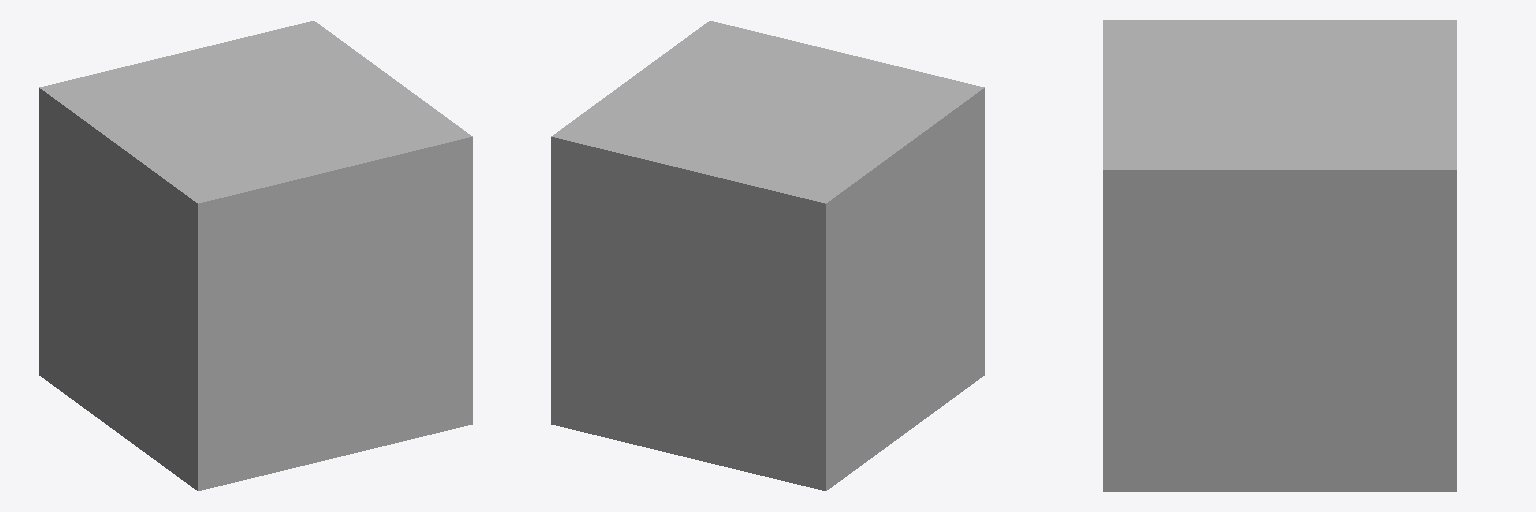
The robot description file, URDF, robot "roborts_robot_xacro":
<?xml version="1.0" ?>
<!-- =================================================================================== -->
<!-- |    This document was autogenerated by xacro from [local-path]/catkin_ws/src/RoboRTS_Gazebo/robots/infantry_blue.xacro | -->
<!-- |    EDITING THIS FILE BY HAND IS NOT RECOMMENDED                                 | -->
<!-- =================================================================================== -->
<robot name="roborts_robot_xacro" xmlns:xacro="http://www.ros.org/wiki/xacro">
  <link name="base_link">
    <inertial>
      <origin rpy="0 0 0" xyz="-0.025782 0 0.025311"/>
      <mass value="25.625"/>
      <inertia ixx="0.10311" ixy="-9.0391E-05" ixz="0.0071078" iyy="0.24575" iyz="2.1083E-05" izz="0.32438"/>
    </inertial>
    <visual>
      <origin rpy="0 0 0" xyz="0 0 0"/>
      <geometry>
        <mesh filename="package://roborts_gazebo/meshes/base_link.STL"/>
      </geometry>
      <material name="">
        <color rgba="0 0 0 1"/>
      </material>
    </visual>
    <collision>
      <origin rpy="0 0 0" xyz="0 0 0"/>
      <geometry>
        <box size="0.55 0.4 0.1"/>
      </geometry>
    </collision>
  </link>
  <link name="br_wheel_link">
    <inertial>
      <origin rpy="0 0 0" xyz="0 0.014616 0"/>
      <mass value="0.86078"/>
      <inertia ixx="0.0015361" ixy="1.6456E-06" ixz="-2.0131E-06" iyy="0.002844" iyz="-9.5351E-07" izz="0.0015337"/>
    </inertial>
    <visual>
      <origin rpy="0 0 0" xyz="0 0 0"/>
      <geometry>
        <mesh filename="package://roborts_gazebo/meshes/br_wheel_link.STL"/>
      </geometry>
      <material name="">
        <color rgba="1 0 0 1"/>
      </material>
    </visual>
    <collision>
      <origin rpy="1.5708 0 0" xyz="0 0 0"/>
      <geometry>
        <cylinder length="0.02" radius="0.078"/>
      </geometry>
    </collision>
  </link>
  <joint name="base_link_to_br_wheel_joint" type="continuous">
    <origin rpy="0 0 -3.1416" xyz="-0.21 -0.25 0"/>
    <parent link="base_link"/>
    <child link="br_wheel_link"/>
    <axis xyz="0 1 0"/>
  </joint>
  <link name="bl_wheel_link">
    <inertial>
      <origin rpy="0 0 0" xyz="0 -0.014551 0"/>
      <mass value="0.86078"/>
      <inertia ixx="0.0015355" ixy="4.8831E-07" ixz="1.8067E-06" iyy="0.002844" iyz="9.4618E-08" izz="0.0015338"/>
    </inertial>
    <visual>
      <origin rpy="0 0 0" xyz="0 0 0"/>
      <geometry>
        <mesh filename="package://roborts_gazebo/meshes/bl_wheel_link.STL"/>
      </geometry>
      <material name="">
        <color rgba="0.79216 0.81961 0.93333 1"/>
      </material>
    </visual>
    <collision>
      <origin rpy="-1.5708 0 0" xyz="0 0 0"/>
      <geometry>
        <cylinder length="0.02" radius="0.078"/>
      </geometry>
    </collision>
  </link>
  <joint name="base_link_to_bl_wheel_joint" type="continuous">
    <origin rpy="0 0 -3.1416" xyz="-0.21 0.25 0"/>
    <parent link="base_link"/>
    <child link="bl_wheel_link"/>
    <axis xyz="0 -1 0"/>
  </joint>
  <link name="fl_wheel_link">
    <inertial>
      <origin rpy="0 0 0" xyz="0 -0.014549 0"/>
      <mass value="0.86078"/>
      <inertia ixx="0.0015361" ixy="1.6481E-06" ixz="-2.0131E-06" iyy="0.002844" iyz="-9.4912E-07" izz="0.0015338"/>
    </inertial>
    <visual>
      <origin rpy="0 0 0" xyz="0 0 0"/>
      <geometry>
        <mesh filename="package://roborts_gazebo/meshes/fl_wheel_link.STL"/>
      </geometry>
      <material name="">
        <color rgba="0.79216 0.81961 0.93333 1"/>
      </material>
    </visual>
    <collision>
      <origin rpy="-1.5708 0 0" xyz="0 0 0"/>
      <geometry>
        <cylinder length="0.02" radius="0.078"/>
      </geometry>
    </collision>
  </link>
  <joint name="base_link_to_fl_wheel_joint" type="continuous">
    <origin rpy="0 0 3.1416" xyz="0.21 0.25 0"/>
    <parent link="base_link"/>
    <child link="fl_wheel_link"/>
    <axis xyz="0 1 0"/>
  </joint>
  <link name="fr_wheel_link">
    <inertial>
      <origin rpy="0 0 0" xyz="0.00010086 0.014592 0"/>
      <mass value="0.86078"/>
      <inertia ixx="0.0015355" ixy="5.3543E-07" ixz="1.8067E-06" iyy="0.002844" iyz="1.1717E-07" izz="0.0015337"/>
    </inertial>
    <visual>
      <origin rpy="0 0 0" xyz="0 0 0"/>
      <geometry>
        <mesh filename="package://roborts_gazebo/meshes/fr_wheel_link.STL"/>
      </geometry>
      <material name="">
        <color rgba="0.75294 0.75294 0.75294 1"/>
      </material>
    </visual>
    <collision>
      <origin rpy="1.5708 0 0" xyz="0 0 0"/>
      <geometry>
        <cylinder length="0.02" radius="0.078"/>
      </geometry>
    </collision>
  </link>
  <joint name="base_link_to_fr_wheel_joint" type="continuous">
    <origin rpy="0 0 -3.1416" xyz="0.21 -0.25 0"/>
    <parent link="base_link"/>
    <child link="fr_wheel_link"/>
    <axis xyz="0 -1 0"/>
  </joint>
  <link name="yaw_link">
    <inertial>
      <origin rpy="0 0 0" xyz="0 0.024936 0"/>
      <mass value="0.98307"/>
      <inertia ixx="0.0072228" ixy="1.8624E-07" ixz="5.1373E-07" iyy="0.0035103" iyz="-0.0016193" izz="0.00443"/>
    </inertial>
    <visual>
      <origin rpy="0 0 0" xyz="0 0 0"/>
      <geometry>
        <mesh filename="package://roborts_gazebo/meshes/yaw_link.STL"/>
      </geometry>
      <material name="">
        <color rgba="0.89412 0.91373 0.92941 1"/>
      </material>
    </visual>
    <collision>
      <origin rpy="0 0 0" xyz="0 0 1"/>
      <geometry>
        <box size="0.01 0.01 0.01"/>
      </geometry>
    </collision>
  </link>
  <joint name="base_link_to_yaw_joint" type="revolute">
    <origin rpy="0 0 0" xyz="-0.017561 0 0.1342"/>
    <parent link="base_link"/>
    <child link="yaw_link"/>
    <axis xyz="0 0 1"/>
    <limit effort="1000" lower="-1.57" upper="1.57" velocity="100"/>
  </joint>
  <link name="pitch_link">
    <inertial>
      <origin rpy="0 0 0" xyz="-0.0024244 0.00051587 -0.011372"/>
      <mass value="0.68228"/>
      <inertia ixx="0.0019856" ixy="5.1373E-05" ixz="0.00087772" iyy="0.0042744" iyz="-2.4468E-05" izz="0.0037072"/>
    </inertial>
    <visual>
      <origin rpy="0 0 0" xyz="0 0 0"/>
      <geometry>
        <mesh filename="package://roborts_gazebo/meshes/pitch_link.STL"/>
      </geometry>
      <material name="">
        <color rgba="1 1 1 1"/>
      </material>
    </visual>
    <collision>
      <origin rpy="0 0 0" xyz="0 0 0"/>
      <geometry>
        <box size="0.01 0.01 0.01"/>
      </geometry>
    </collision>
  </link>
  <joint name="yaw_to_pitch_joint" type="revolute">
    <origin rpy="0 0 0" xyz="0 0 0.125"/>
    <parent link="yaw_link"/>
    <child link="pitch_link"/>
    <axis xyz="0 1 0"/>
    <limit effort="1000" lower="-0.35" upper="0.35" velocity="100"/>
  </joint>
  <!--
  <link
    name="camera_link">
    <inertial>
      <origin
        xyz="0.0060861 0 0"
        rpy="0 0 0" />
      <mass
        value="0.01627" />
      <inertia
        ixx="3.55E-06"
        ixy="2.3732E-22"
        ixz="1.3726E-09"
        iyy="2.0801E-06"
        iyz="6.7678E-23"
        izz="2.0554E-06" />
    </inertial>
    <visual>
      <origin
        xyz="0 0 0"
        rpy="0 0 0" />
      <geometry>
        <mesh
          filename="package://roborts_gazebo/meshes/camera_link.STL" />
      </geometry>
      <material
        name="">
        <color
          rgba="0.75294 0.75294 0.75294 1" />
      </material>
    </visual> -->
  <!-- <collision>
      <origin
        xyz="0 0 0"
        rpy="0 0 0" />
      <geometry>
        <mesh
          filename="package://roborts_gazebo/meshes/camera_link.STL" />
      </geometry>
    </collision> -->
  <!-- </link> -->
  <!-- <joint
    name="pitch_link_to_camera_wheel_joint"
    type="fixed">
    <origin
      xyz="0.041 0 0.049"
      rpy="0 0 0" />
    <parent
      link="pitch_link" />
    <child
      link="camera_link" />
    <axis
      xyz="0 0 0" />
  </joint> -->
  <link name="base_laser_link">
    <inertial>
      <origin rpy="0 0 0" xyz="0 0 0"/>
      <mass value="0.12185"/>
      <inertia ixx="6.3159E-05" ixy="-9.0976E-22" ixz="-4.4573E-07" iyy="6.3776E-05" iyz="-1.8492E-21" izz="4.2072E-05"/>
    </inertial>
    <!-- <visual>
      <origin
        xyz="0 0 0"
        rpy="0 0 0" />
      <geometry>
        <mesh
          filename="package://roborts_gazebo/meshes/laser_link.STL" />
      </geometry>
      <material
        name="">
        <color
          rgba="0.75294 0.75294 0.75294 1" />
      </material>
    </visual> -->
    <!-- <collision>
      <origin
        xyz="0 0 0"
        rpy="0 0 0" />
      <geometry>
        <mesh
          filename="package://roborts_gazebo/meshes/laser_link.STL" />
      </geometry>
    </collision> -->
  </link>
  <joint name="base_link_to_laser_joint" type="fixed">
    <origin rpy="0 0 0" xyz="0 0 0.1"/>
    <parent link="base_link"/>
    <child link="base_laser_link"/>
    <axis xyz="0 0 0"/>
  </joint>
  <link name="uwb_tag_link">
    <inertial>
      <origin rpy="0 0 0" xyz="0 0 0"/>
      <mass value="0.02"/>
      <inertia ixx="6.3159E-05" ixy="-9.0976E-22" ixz="-4.4573E-07" iyy="6.3776E-05" iyz="-1.8492E-21" izz="4.2072E-05"/>
    </inertial>
    <!-- <visual>
      <origin
        xyz="0 0 0"
        rpy="0 0 0" />
      <geometry>
        <box
          size= "0.05 0.05 0.05"
        />
      </geometry>
      <material
        name="">
        <color
          rgba="0.75294 0.75294 0.75294 1" />
      </material>
    </visual> -->
    <!-- <collision>
      <origin
        xyz="0 0 0"
        rpy="0 0 0" />
      <geometry>
        <mesh
          filename="package://roborts_gazebo/meshes/laser_link.STL" />
      </geometry>
    </collision> -->
  </link>
  <joint name="base_link_to_uwb_tag_link_joint" type="fixed">
    <origin rpy="0 0 0" xyz="-0.18 0.1 0.38"/>
    <parent link="base_link"/>
    <child link="uwb_tag_link"/>
    <axis xyz="0 0 0"/>
  </joint>
  <link name="imu">
    <inertial>
      <origin rpy="0 0 0" xyz="0 0 0"/>
      <mass value="0.0001"/>
      <inertia ixx="6.3159E-25" ixy="-9.0976E-22" ixz="-4.4573E-27" iyy="6.3776E-25" iyz="-1.8492E-21" izz="4.2072E-25"/>
    </inertial>
    <visual>
      <origin rpy="0 0 0" xyz="0 0 0"/>
      <geometry>
        <box size="0.0001 0.0001 0.0001"/>
      </geometry>
      <material name="">
        <color rgba="0.75294 0.75294 0.75294 1"/>
      </material>
    </visual>
  </link>
  <joint name="uwb_tag_link_to_imu_link_joint" type="fixed">
    <origin rpy="0 0 0" xyz="0 0 0"/>
    <parent link="uwb_tag_link"/>
    <child link="imu"/>
    <axis xyz="0 0 0"/>
  </joint>
  <!-- materials -->
  <gazebo reference="base_link">
    <material>Gazebo/Black</material>
    <turnGravityOff>false</turnGravityOff>
  </gazebo>
  <gazebo reference="uwb_tag_link">
    <material>Gazebo/Black</material>
    <turnGravityOff>false</turnGravityOff>
  </gazebo>
  <gazebo reference="base_laser_link">
    <material>Gazebo/Black</material>
    <turnGravityOff>false</turnGravityOff>
  </gazebo>
  <!-- hokuyo -->
  <gazebo reference="base_laser_link">
    <sensor name="head_hokuyo_sensor" type="gpu_ray">
      <pose>0 0 0.2 0 0 0</pose>
      <visualize>false</visualize>
      <update_rate>15</update_rate>
      <ray>
        <scan>
          <horizontal>
            <samples>360</samples>
            <resolution>1</resolution>
            <min_angle>-3.14159</min_angle>
            <max_angle>3.14159</max_angle>
          </horizontal>
        </scan>
        <range>
          <min>0.3</min>
          <max>4.5</max>
          <resolution>0.3</resolution>
        </range>
        <noise>
          <type>gaussian</type>
          <!-- Noise parameters based on published spec for Hokuyo laser
               achieving "+-30mm" accuracy at range < 10m.  A mean of 0.0m and
               stddev of 0.01m will put 99.7% of samples within 0.03m of the true
               reading. -->
          <mean>0.0</mean>
          <stddev>0.01</stddev>
        </noise>
      </ray>
      <plugin filename="libgazebo_ros_gpu_laser.so" name="gazebo_ros_head_hokuyo_controller">
        <topicName>scan</topicName>
        <frameName>base_laser_link</frameName>
      </plugin>
    </sensor>
  </gazebo>
  <!-- position controller plugin-->
  <gazebo>
    <plugin filename="libgazebo_ros_planar_move.so" name="mecanum_base_controller">
      <commandTopic>cmd_vel</commandTopic>
      <odometryTopic>odom</odometryTopic>
      <odometryFrame>odom</odometryFrame>
      <odometryRate>15</odometryRate>
      <robotBaseFrame>base_link</robotBaseFrame>
      <broadcastTF>true</broadcastTF>
    </plugin>
  </gazebo>
  <gazebo reference="imu">
    <gravity>true</gravity>
    <sensor name="imu_sensor" type="imu">
      <always_on>true</always_on>
      <update_rate>50</update_rate>
      <visualize>true</visualize>
      <topic>__default_topic__</topic>
      <plugin filename="libgazebo_ros_imu_sensor.so" name="imu_plugin">
        <topicName>imu</topicName>
        <bodyName>imu</bodyName>
        <updateRateHZ>50.0</updateRateHZ>
        <gaussianNoise>0.03</gaussianNoise>
        <xyzOffset>0 0 0</xyzOffset>
        <rpyOffset>0 0 0</rpyOffset>
        <frameName>imu</frameName>
      </plugin>
      <pose>0 0 0 0 0 0</pose>
    </sensor>
  </gazebo>
  <!-- ros_control plugin -->
  <gazebo>
    <plugin filename="libgazebo_ros_control.so" name="gazebo_ros_control">
      <robotParam>robot_description</robotParam>
      <!-- <robotSimType>gazebo_ros_control/DefaultRobotHWSim</robotSimType>-->
    </plugin>
  </gazebo>
  <transmission name="base_link_to_yaw_joint_tran1">
    <type>transmission_interface/SimpleTransmission</type>
    <joint name="base_link_to_yaw_joint">
      <hardwareInterface>hardware_interface/PositionJointInterface</hardwareInterface>
    </joint>
    <actuator name="base_link_to_yaw_joint_motor1">
      <mechanicalReduction>1</mechanicalReduction>
      <hardwareInterface>hardware_interface/PositionJointInterface</hardwareInterface>
    </actuator>
  </transmission>
  <transmission name="base_link_to_pitch_joint_tran1">
    <type>transmission_interface/SimpleTransmission</type>
    <joint name="base_link_to_pitch_joint">
      <hardwareInterface>hardware_interface/PositionJointInterface</hardwareInterface>
    </joint>
    <actuator name="base_link_to_pitch_joint_motor1">
      <mechanicalReduction>1</mechanicalReduction>
      <hardwareInterface>hardware_interface/PositionJointInterface</hardwareInterface>
    </actuator>
  </transmission>
  <transmission name="base_link_to_fl_wheel_joint_tran1">
    <type>transmission_interface/SimpleTransmission</type>
    <joint name="base_link_to_fl_wheel_joint">
      <hardwareInterface>hardware_interface/PositionJointInterface</hardwareInterface>
    </joint>
    <actuator name="base_link_to_fl_wheel_joint_motor1">
      <mechanicalReduction>1</mechanicalReduction>
      <hardwareInterface>hardware_interface/PositionJointInterface</hardwareInterface>
    </actuator>
  </transmission>
  <transmission name="base_link_to_fr_wheel_joint_tran1">
    <type>transmission_interface/SimpleTransmission</type>
    <joint name="base_link_to_fr_wheel_joint">
      <hardwareInterface>hardware_interface/PositionJointInterface</hardwareInterface>
    </joint>
    <actuator name="base_link_to_fr_wheel_joint_motor1">
      <mechanicalReduction>1</mechanicalReduction>
      <hardwareInterface>hardware_interface/PositionJointInterface</hardwareInterface>
    </actuator>
  </transmission>
  <transmission name="base_link_to_bl_wheel_joint_tran1">
    <type>transmission_interface/SimpleTransmission</type>
    <joint name="base_link_to_bl_wheel_joint">
      <hardwareInterface>hardware_interface/PositionJointInterface</hardwareInterface>
    </joint>
    <actuator name="base_link_to_bl_wheel_joint_motor1">
      <mechanicalReduction>1</mechanicalReduction>
      <hardwareInterface>hardware_interface/PositionJointInterface</hardwareInterface>
    </actuator>
  </transmission>
  <transmission name="base_link_to_br_wheel_joint_tran1">
    <type>transmission_interface/SimpleTransmission</type>
    <joint name="base_link_to_br_wheel_joint">
      <hardwareInterface>hardware_interface/PositionJointInterface</hardwareInterface>
    </joint>
    <actuator name="base_link_to_br_wheel_joint_motor1">
      <mechanicalReduction>1</mechanicalReduction>
      <hardwareInterface>hardware_interface/PositionJointInterface</hardwareInterface>
    </actuator>
  </transmission>
  <gazebo reference="fr_wheel_link">
    <material>Gazebo/Black</material>
    <turnGravityOff>false</turnGravityOff>
  </gazebo>
  <gazebo reference="fl_wheel_link">
    <material>Gazebo/Black</material>
    <turnGravityOff>false</turnGravityOff>
  </gazebo>
  <gazebo reference="br_wheel_link">
    <material>Gazebo/Black</material>
    <turnGravityOff>false</turnGravityOff>
  </gazebo>
  <gazebo reference="bl_wheel_link">
    <material>Gazebo/Black</material>
    <turnGravityOff>false</turnGravityOff>
  </gazebo>
  <gazebo reference="yaw_link">
    <material>Gazebo/Black</material>
    <turnGravityOff>false</turnGravityOff>
  </gazebo>
  <gazebo reference="pitch_link">
    <material>Gazebo/Black</material>
    <turnGravityOff>false</turnGravityOff>
  </gazebo>
  <!-- <gazebo reference="camera_link">
    <material>Gazebo/Black</material>
    <turnGravityOff>false</turnGravityOff>
  </gazebo>  -->
</robot>

--- Facts derived from the render (not from the file) ---
3 views of the same robot in one strip: view 1: azimuth 30°, elevation 25°; view 2: azimuth 150°, elevation 25°; view 3: azimuth 270°, elevation 25° (orthographic).
Robot: roborts_robot_xacro — 10 links, 9 joints (2 revolute, 4 continuous, 3 fixed); root link base_link; default pose: every joint at zero.
Links seen in each view (by area): view 1: imu; view 2: imu; view 3: imu.
Boxes of the visible links, x1,y1,x2,y2 form: imu: (39, 21, 472, 490); imu: (551, 21, 984, 490); imu: (1103, 20, 1456, 491).
Size in the robot's own frame: 0.0001 by 0.0001 by 0.0001 metres.
Meshes: 7 distinct files referenced, 0 mesh visuals loaded (none loaded); not drawn: 7 (reference not matched to a file when rendering).